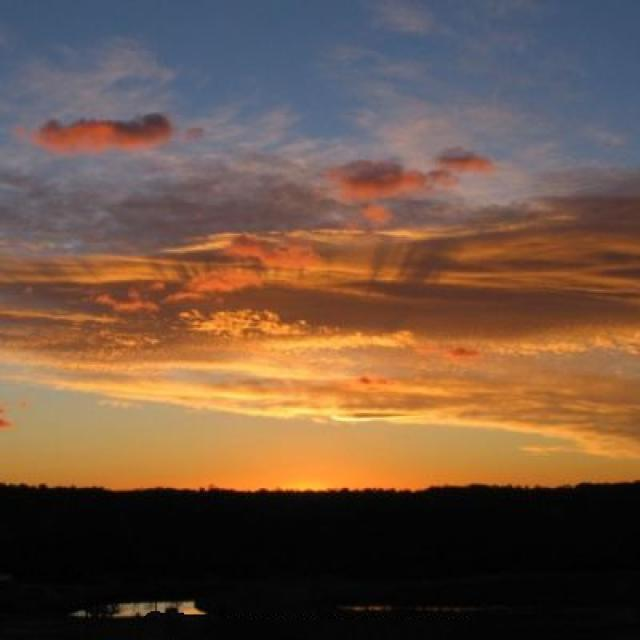As: (1, 76, 640, 462)
